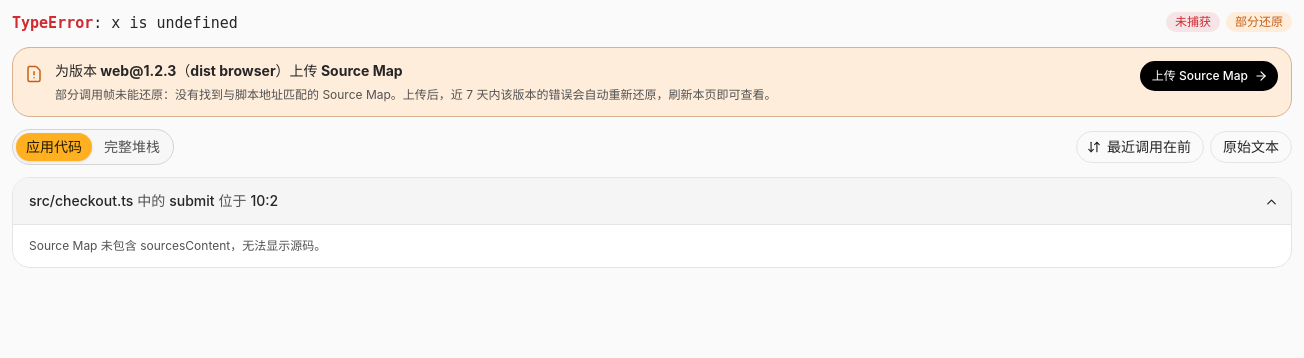
Test: StackTrace source map guidance › shows each unmapped frame's own failure reason
The width and height of the screenshot is (1304, 358).
Click the radio button labelled "完整堆栈" at {"x": 132, "y": 147}, box [94, 133, 170, 161]
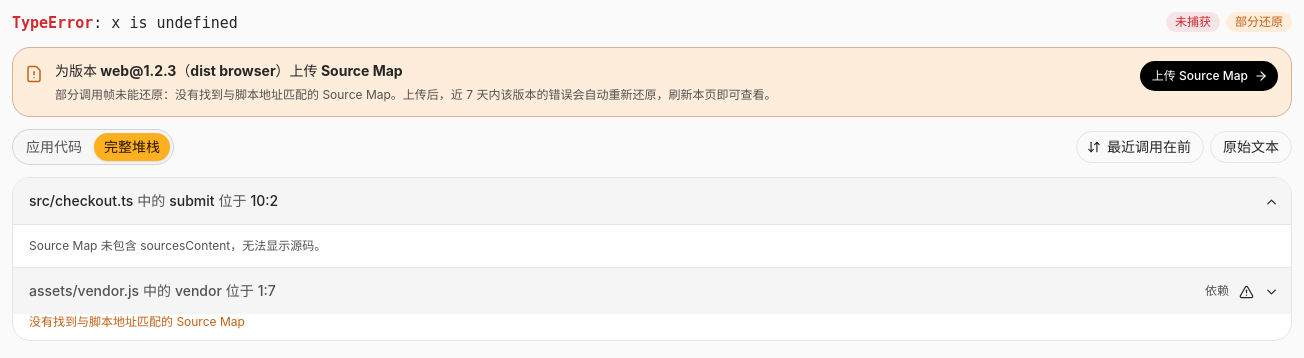
Expected: the text "没有找到与脚本地址匹配的 Source Map" is shown, [29, 314, 245, 329]
